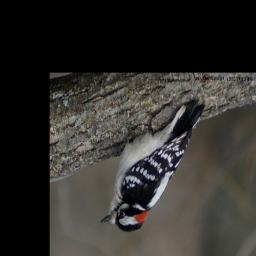Woodpecker: (100, 100, 208, 232)
